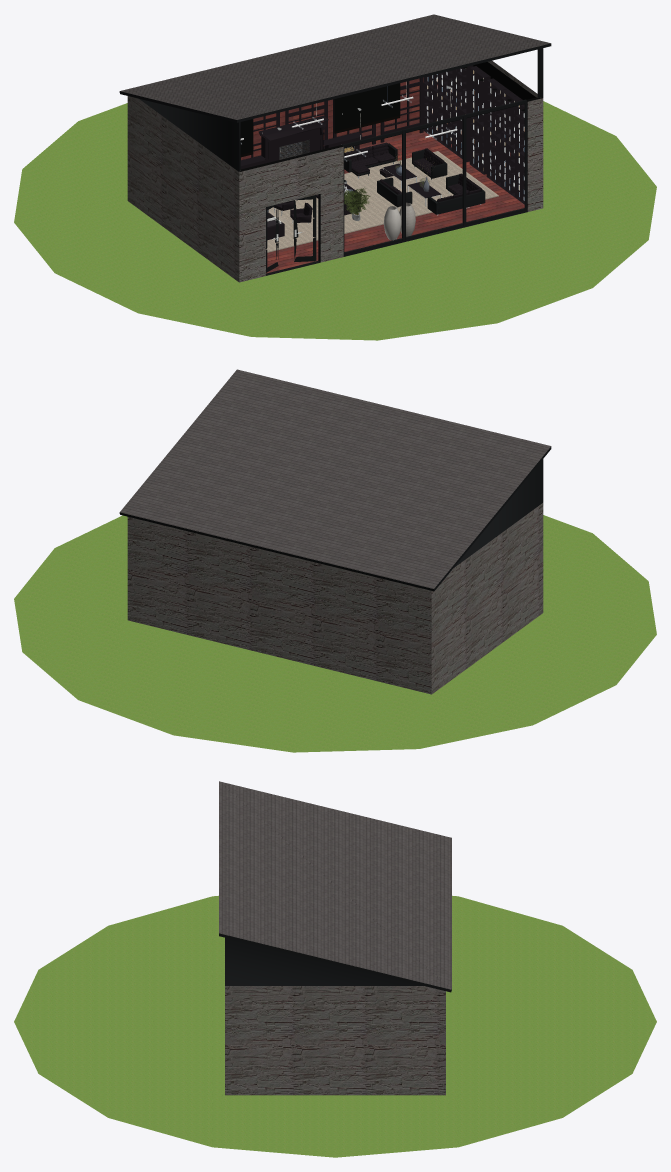
File: room-office-black.glb
3 renders of one model, top to bottom at view 1: azimuth 30°, elevation 25°; view 2: azimuth 150°, elevation 25°; view 3: azimuth 270°, elevation 25°, orthographic.
Parts seen in each view (by area): view 1: material_0.006, material_0.001, material_0.073, material_0.022, material_0.079, material_0.069, material_2.027, material_0.018; view 2: material_0.006, material_0.022, material_0.073, material_0.001; view 3: material_0.006, material_0.022, material_0.073, material_0.001.
Part boxes in pixels (x1,y1,x2,y2): material_0.006: [14, 101, 656, 340]; material_0.001: [119, 43, 551, 275]; material_0.073: [127, 60, 543, 282]; material_0.022: [120, 14, 550, 119]; material_0.079: [241, 77, 524, 273]; material_0.069: [266, 151, 498, 252]; material_2.027: [344, 187, 370, 214]; material_0.018: [383, 206, 401, 240]; material_0.006: [14, 515, 656, 752]; material_0.022: [120, 369, 550, 588]; material_0.073: [127, 503, 543, 694]; material_0.001: [119, 446, 551, 591]; material_0.006: [14, 895, 656, 1157]; material_0.022: [219, 781, 451, 989]; material_0.073: [225, 986, 445, 1095]; material_0.001: [219, 933, 451, 992].
Bounding box in the file's own units: 5 × 1.44 × 5.
Materials: 21 (21 with a texture image).
